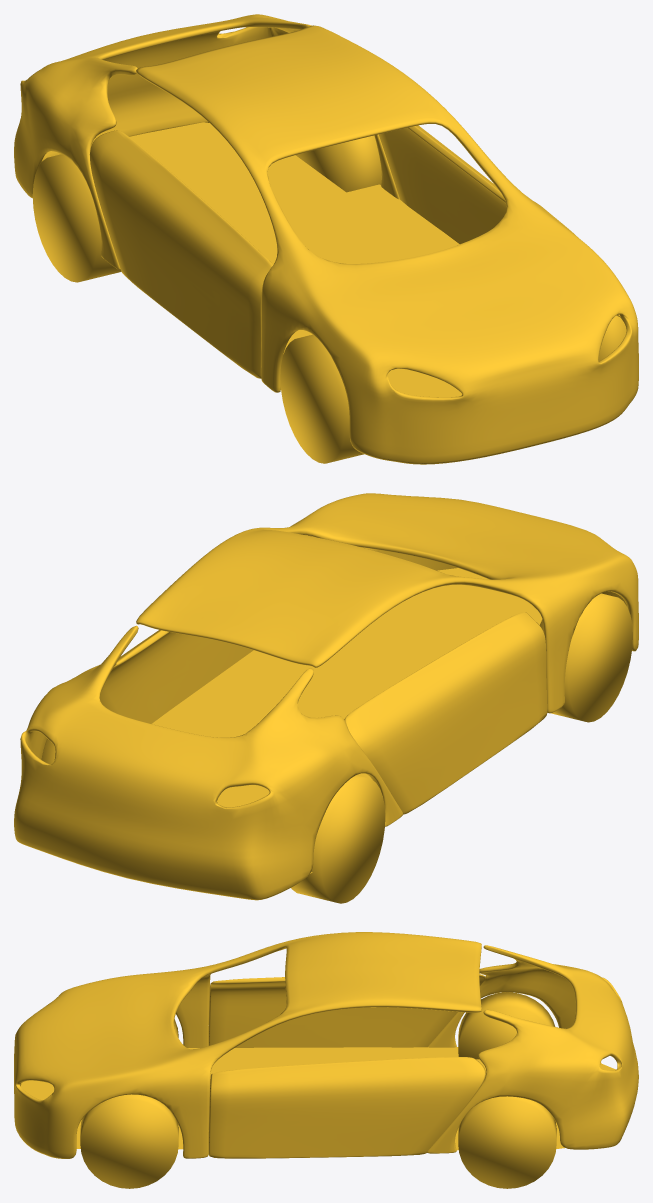
The model's file is car.v2.export.tracked.gltf.
3 renders of one model, top to bottom at view 1: azimuth 30°, elevation 25°; view 2: azimuth 150°, elevation 25°; view 3: azimuth 270°, elevation 25°, orthographic. The views are drawn at different scales.
Visible parts, largest first — view 1: 平面.003; view 2: 平面.003; view 3: 平面.003.
Part boxes in pixels (x1,y1,x2,y2): 平面.003: (14,14,638,464); 平面.003: (14,493,638,903); 平面.003: (14,932,638,1188).
Bounding box in the file's own units: 2.54 × 1.87 × 6.21.
